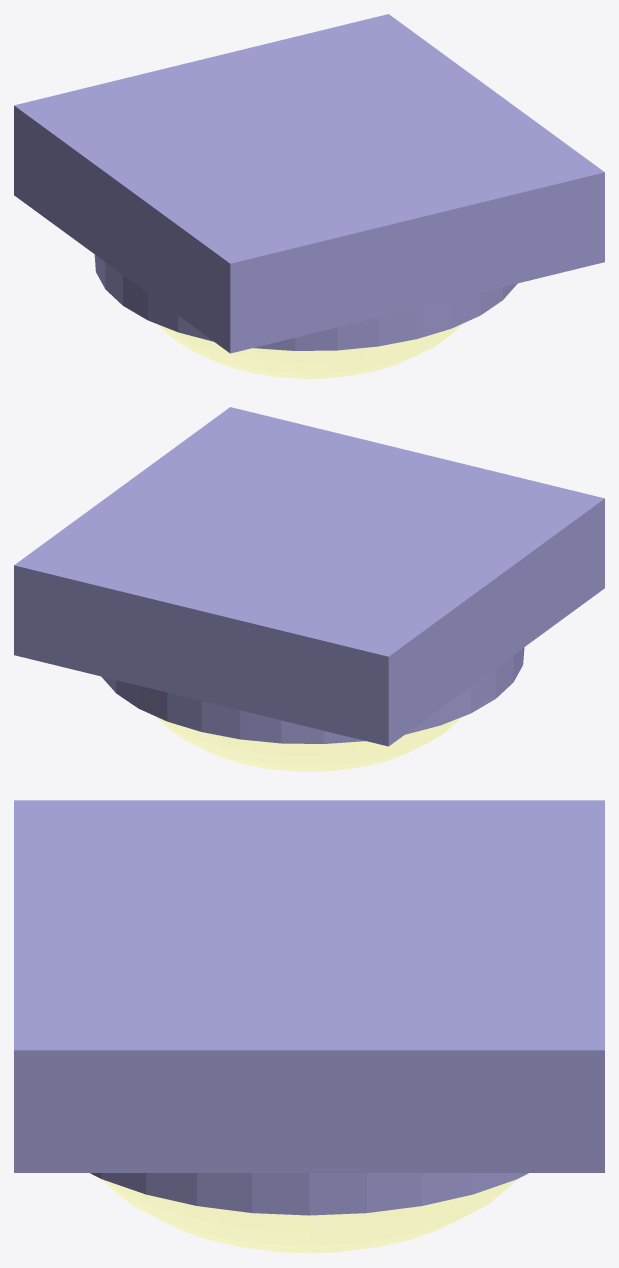
File: ceiling_light.glb
3 renders of one model, top to bottom at view 1: azimuth 30°, elevation 25°; view 2: azimuth 150°, elevation 25°; view 3: azimuth 270°, elevation 25°, orthographic. The views are drawn at different scales.
Visible parts, largest first — view 1: Cube, Cylinder, Sphere; view 2: Cube, Cylinder, Sphere; view 3: Cube, Cylinder, Sphere.
Part boxes in pixels (x1,y1,x2,y2): Cube: (14,14,604,353); Cylinder: (94,254,517,350); Sphere: (157,323,463,378); Cube: (14,407,604,746); Cylinder: (101,647,524,743); Sphere: (155,716,461,771); Cube: (14,800,604,1172); Cylinder: (90,1173,528,1215); Sphere: (100,1178,518,1253).
Bounding box in the file's own units: 2.69 × 1.46 × 2.69.
